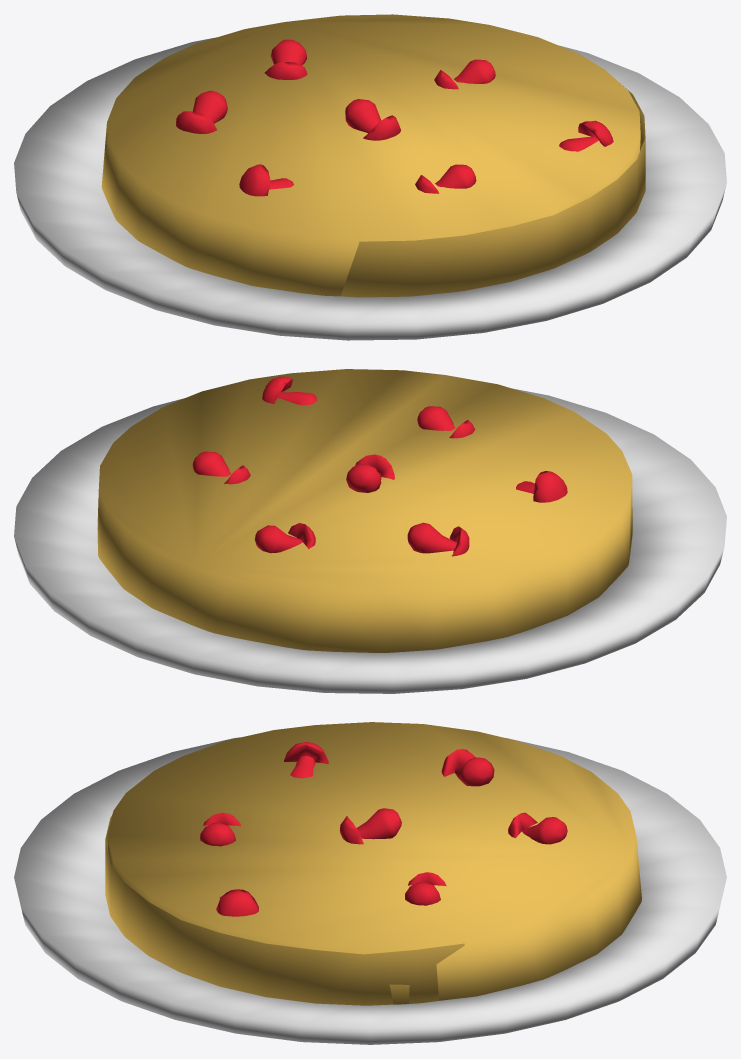
The model's file is mushroomTortilla.fbx.
3 views of the same model, one above another, from view 1: azimuth 30°, elevation 25°; view 2: azimuth 150°, elevation 25°; view 3: azimuth 270°, elevation 25° (orthographic).
Visible parts, largest first — view 1: tortilla; view 2: tortilla; view 3: tortilla.
Part boxes in pixels (<box>): tortilla: <box>14,14,726,340</box>; tortilla: <box>14,369,726,693</box>; tortilla: <box>14,722,726,1044</box>.
Size of the model in its own units: 178 by 32.93 by 178.
